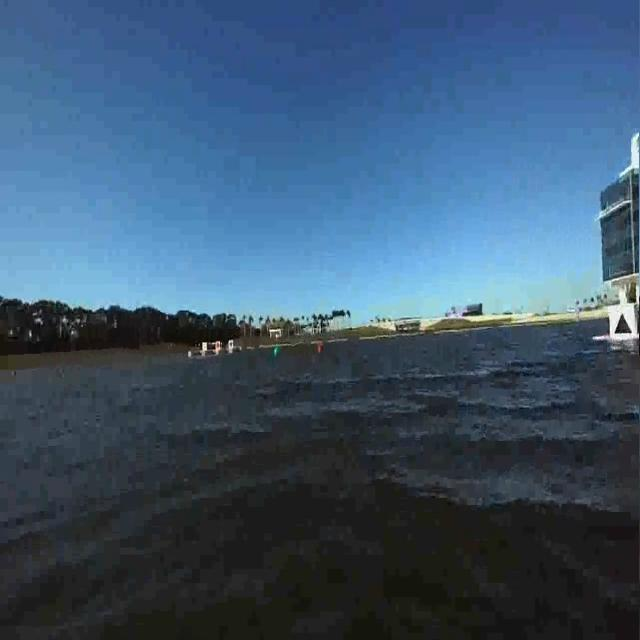green-buoy: (273, 345, 288, 367)
red-buoy: (313, 337, 331, 358)
